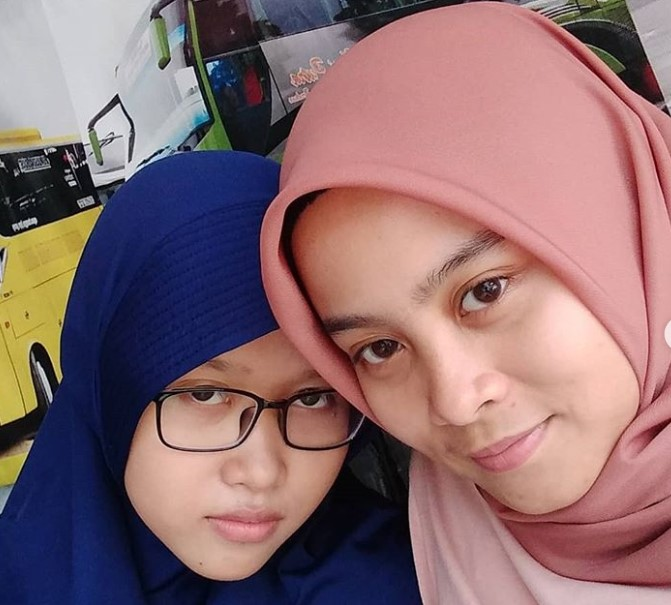face_no_mask: (280, 143, 647, 530), (109, 260, 363, 584)
